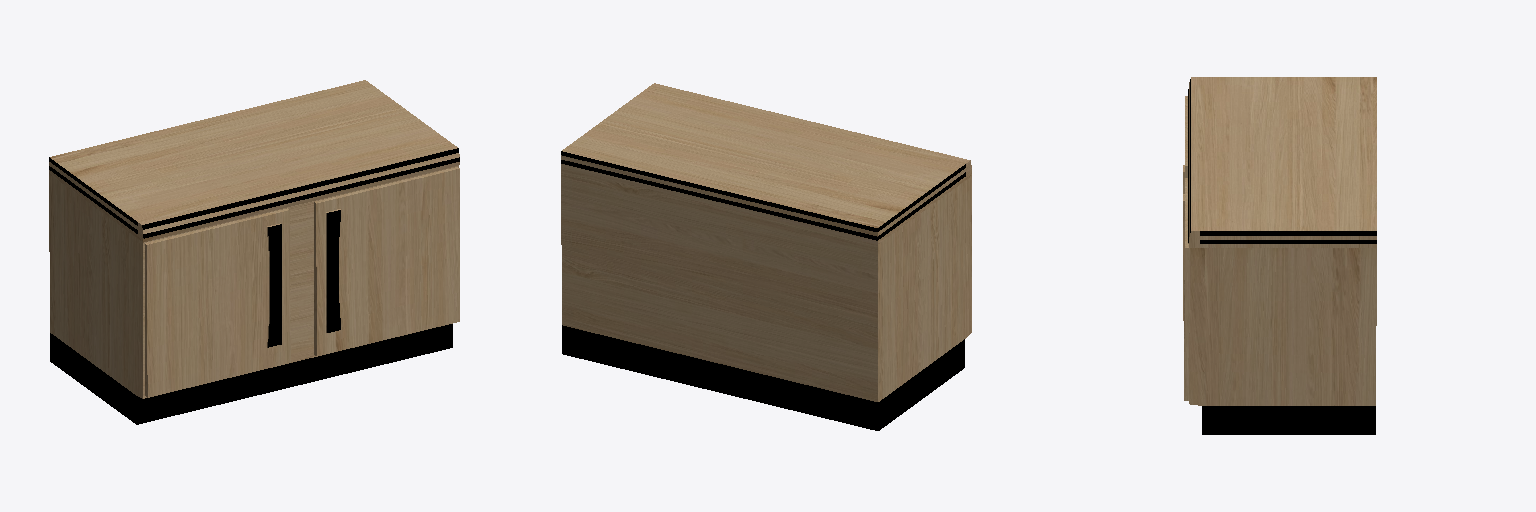
3 views of the same model, side by side, from view 1: azimuth 30°, elevation 25°; view 2: azimuth 150°, elevation 25°; view 3: azimuth 270°, elevation 25° (orthographic).
Visible parts, largest first — view 1: caninet_5; view 2: caninet_5; view 3: caninet_5.
Boxes of the visible parts, x1=… form: caninet_5: x1=49, y1=80, x2=459, y2=424; caninet_5: x1=561, y1=83, x2=971, y2=430; caninet_5: x1=1183, y1=77, x2=1376, y2=434.
Bounding box in the file's own units: 1.06 × 0.6508 × 0.5632.
2 materials, 1 textured.